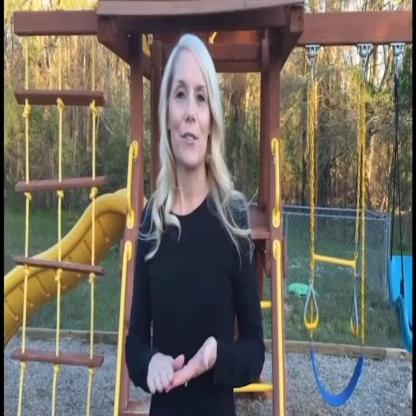ExcuseMe: (148, 328, 218, 409)
